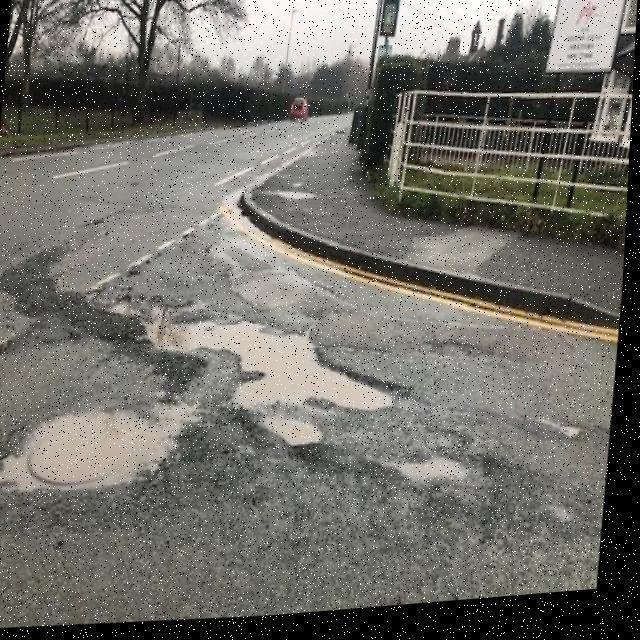Pothole: (80, 282, 415, 453), (0, 388, 205, 504), (354, 440, 511, 520)
